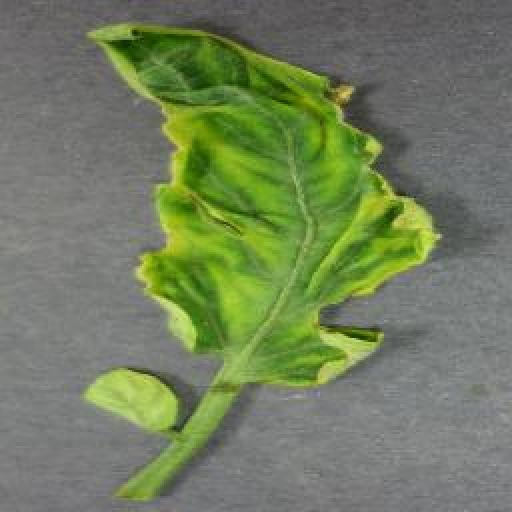disease_tomato: (88, 21, 442, 391)
